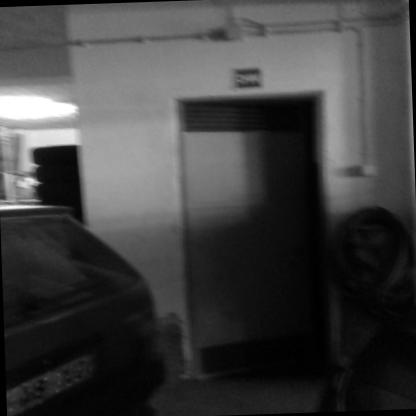semi: (154, 72, 356, 406)
